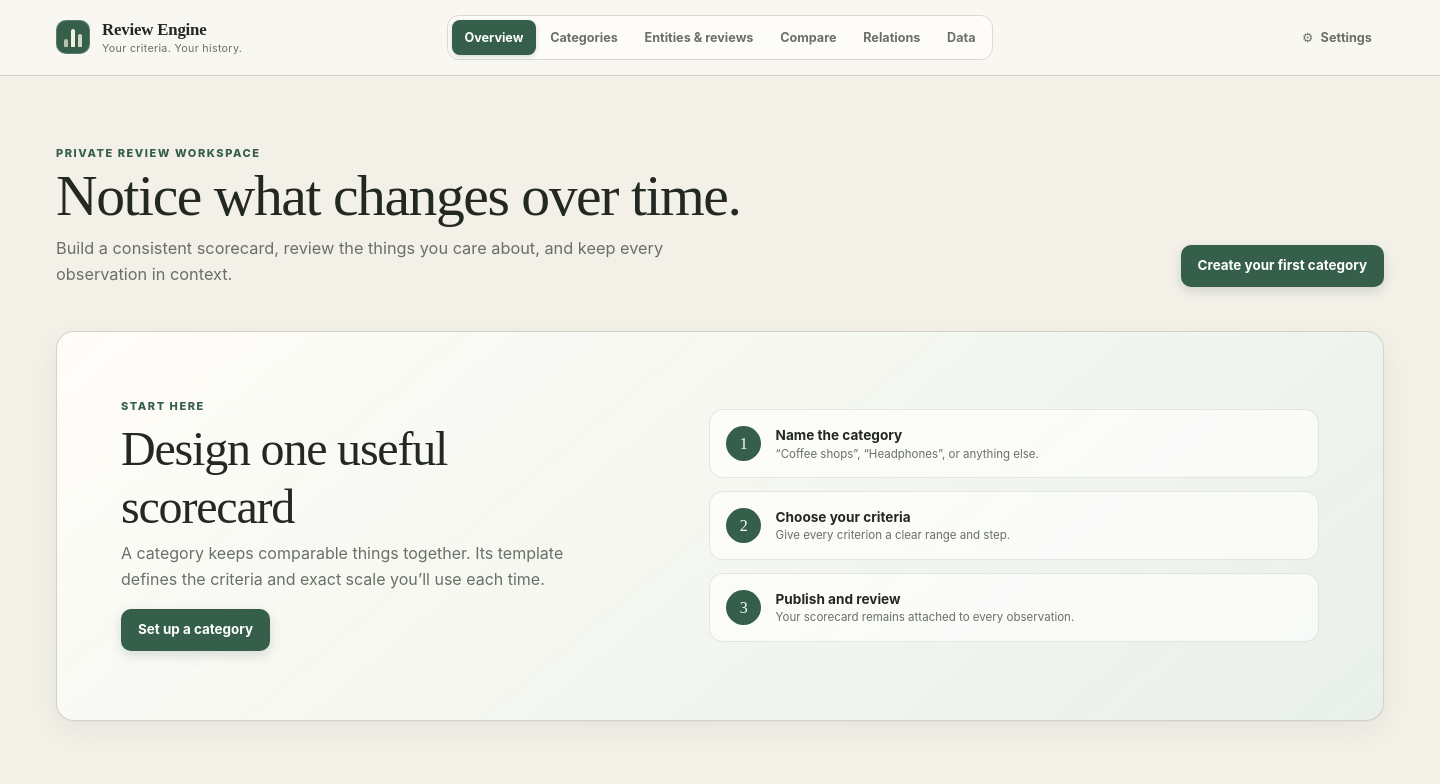
Test: reference UI shell › deletes the cookie session on logout and returns to setup
Check: the heading "Notice what changes over time." is shown, box [56,167,746,226]
Click the link "⚙ Settings": (1337, 38) [1302,30,1372,45]
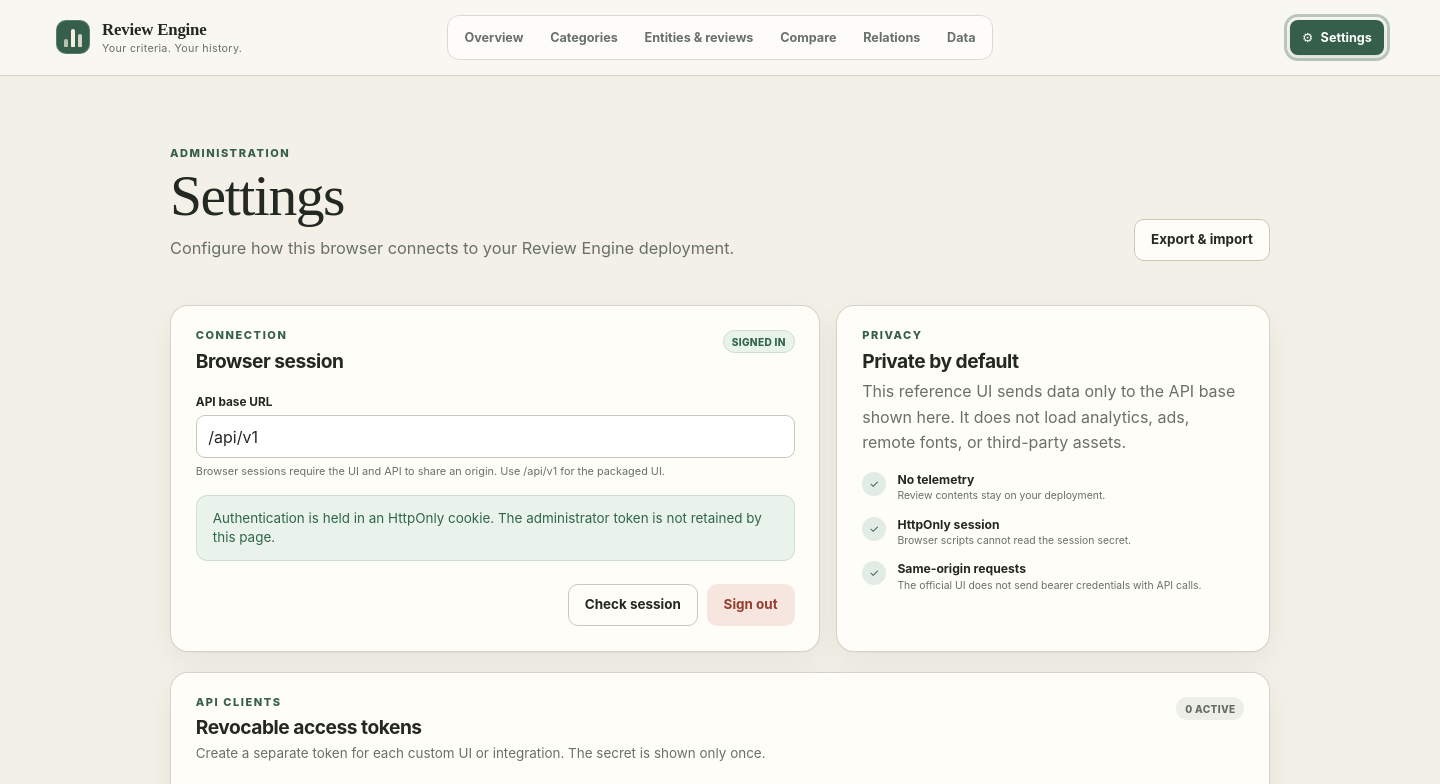
Click the button "Sign out": (751, 605) [707,584,795,626]
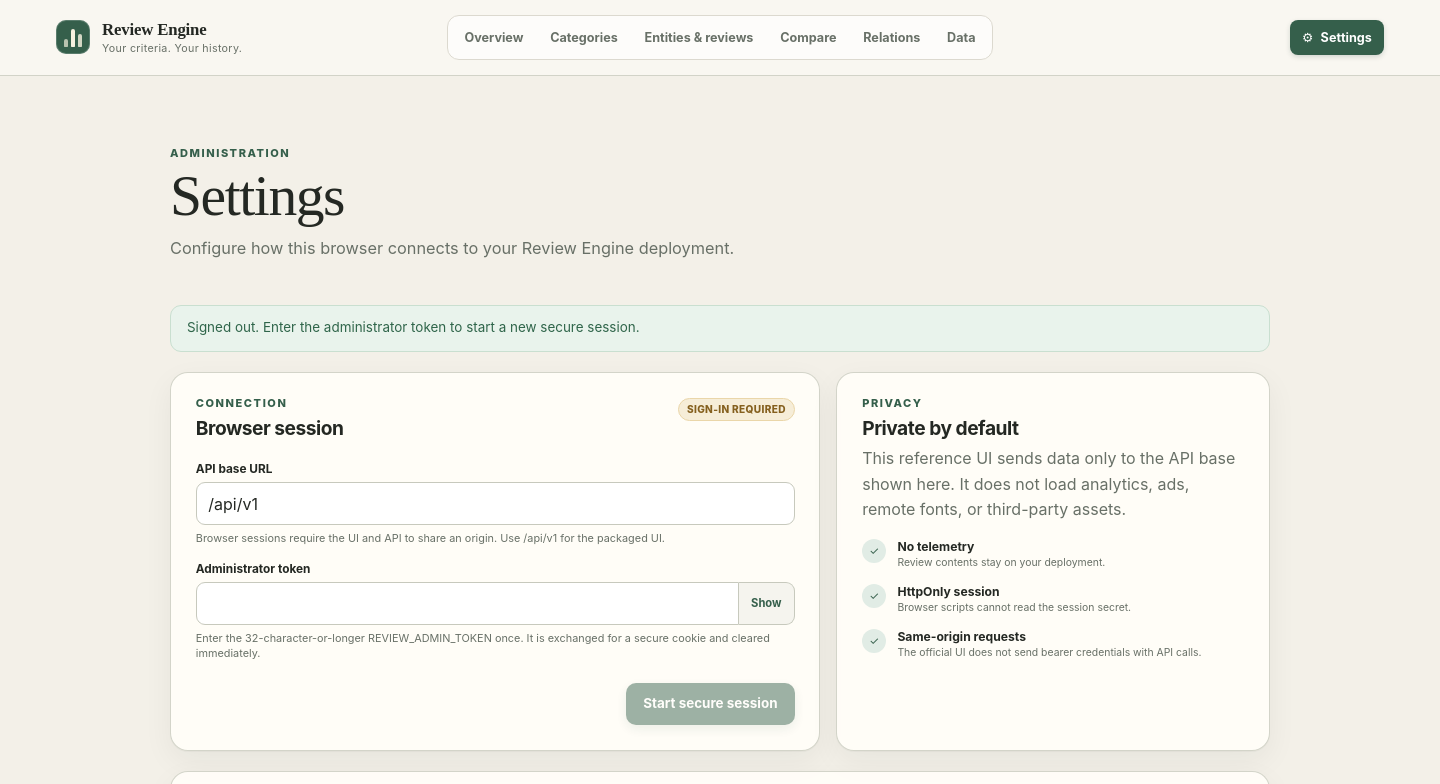
Check: the button "Start secure session" is shown, box [626,683,795,725]
